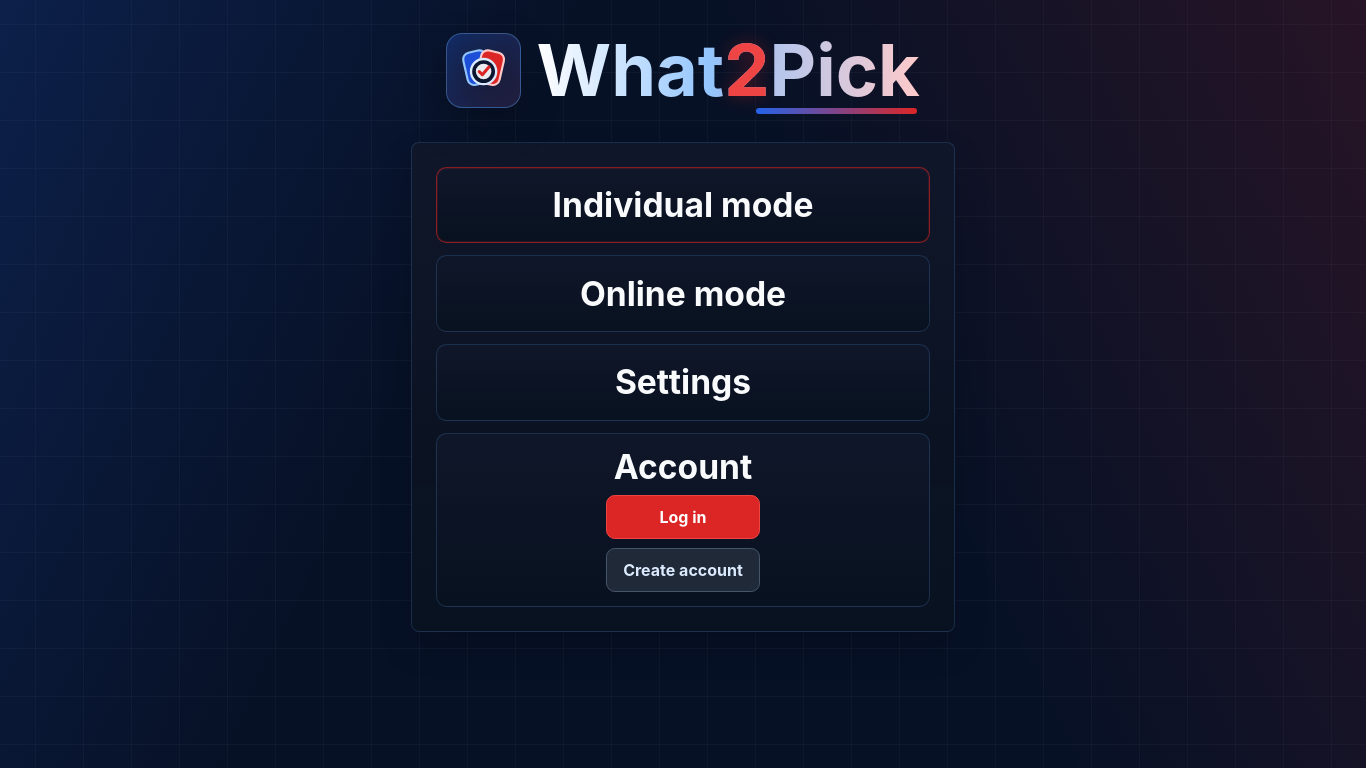
Test case: App › opens a separate login screen and can switch to account creation
This screenshot has width=1366, height=768.
Click the button "Log in" at (683, 517), box [606, 495, 760, 539]
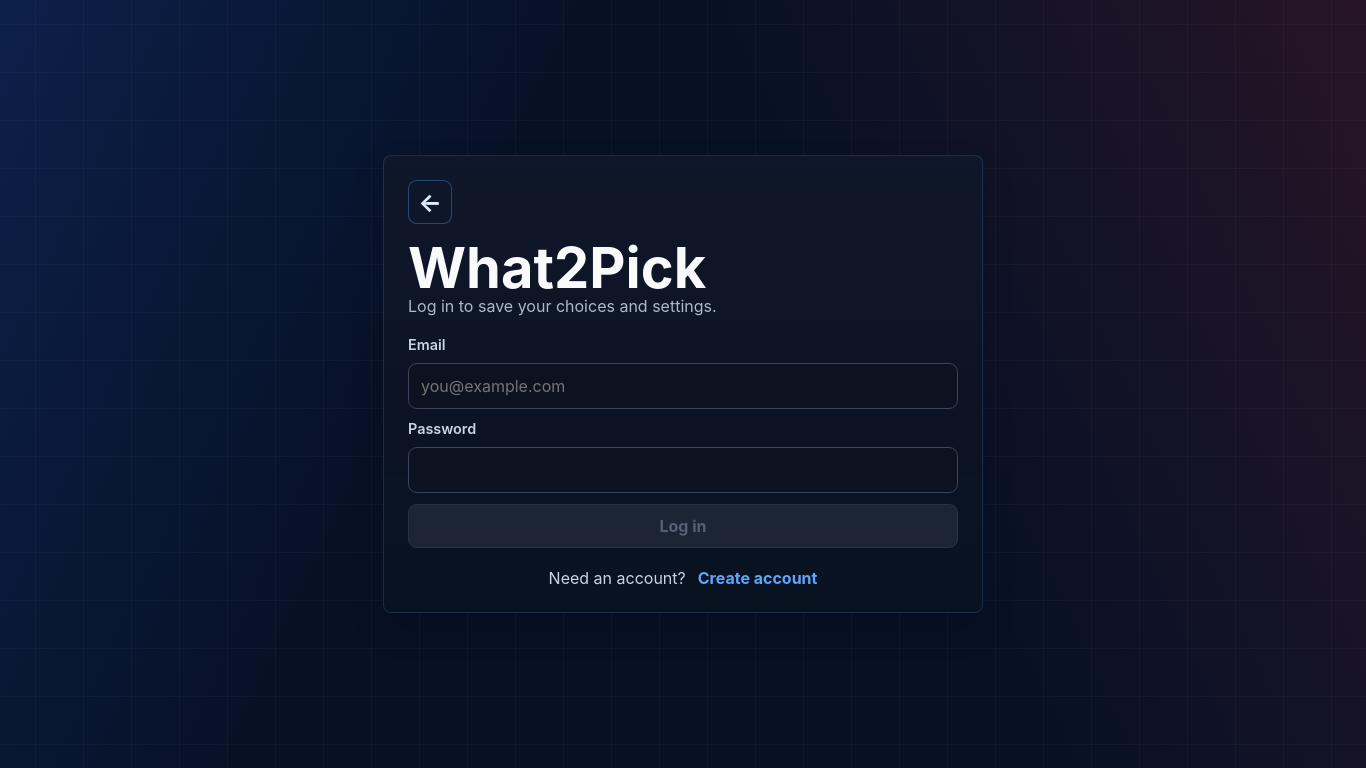
Now the text "Log in to save your choices and settings." is shown, box [408, 296, 717, 316]
Now the field labelled "Email" is shown, box [408, 363, 958, 409]
Now the password field labelled "Password" is shown, box [408, 447, 958, 493]
Click the button "Create account" at (758, 578), box [698, 568, 817, 588]
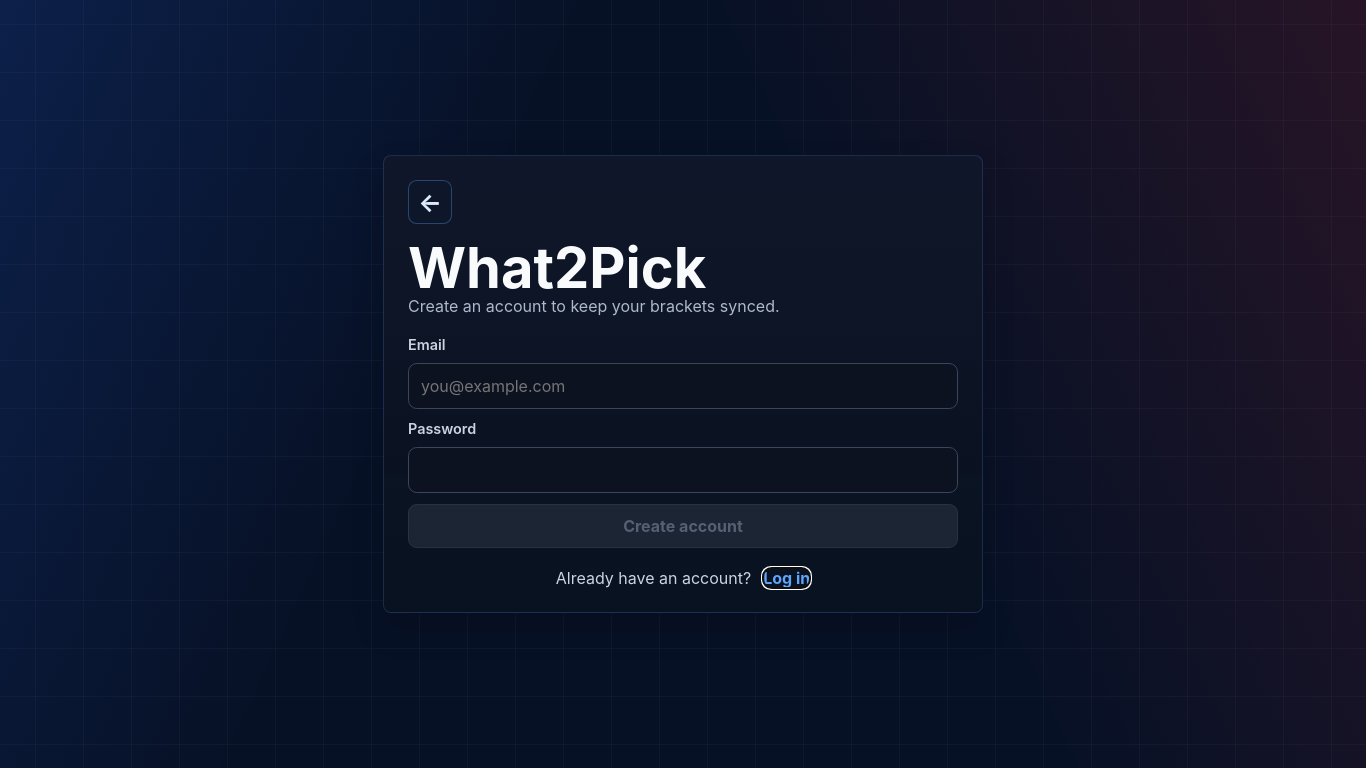
Expected: the button "Create account" is disabled, [408, 504, 958, 548]
Now the text "Create an account to keep your brackets synced." is shown, box [408, 296, 780, 316]
Click the button named "back" at (430, 202), box [408, 180, 452, 224]
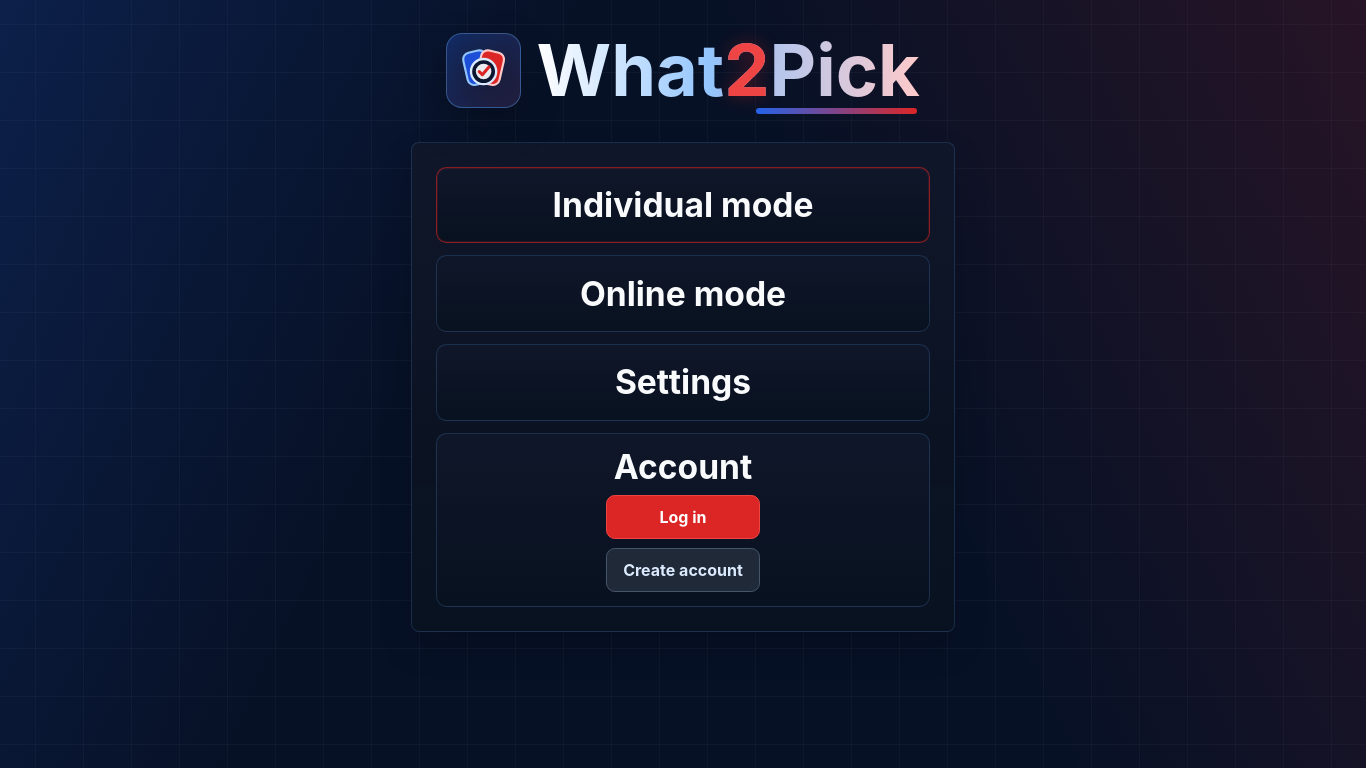
Now the button "Individual mode" is shown, box [436, 167, 930, 243]
